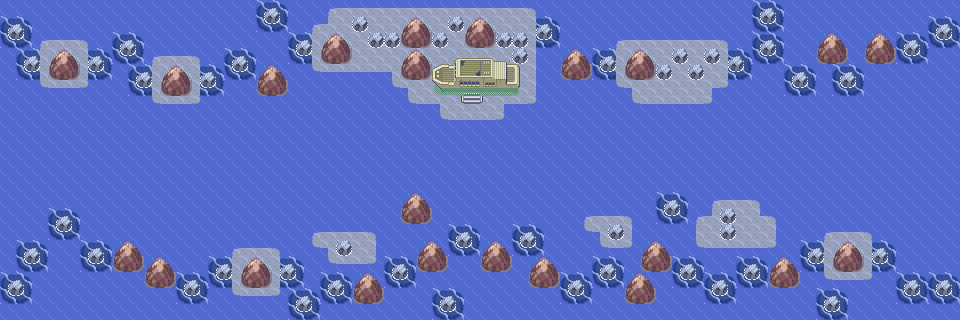misc: (431, 55, 525, 108)
